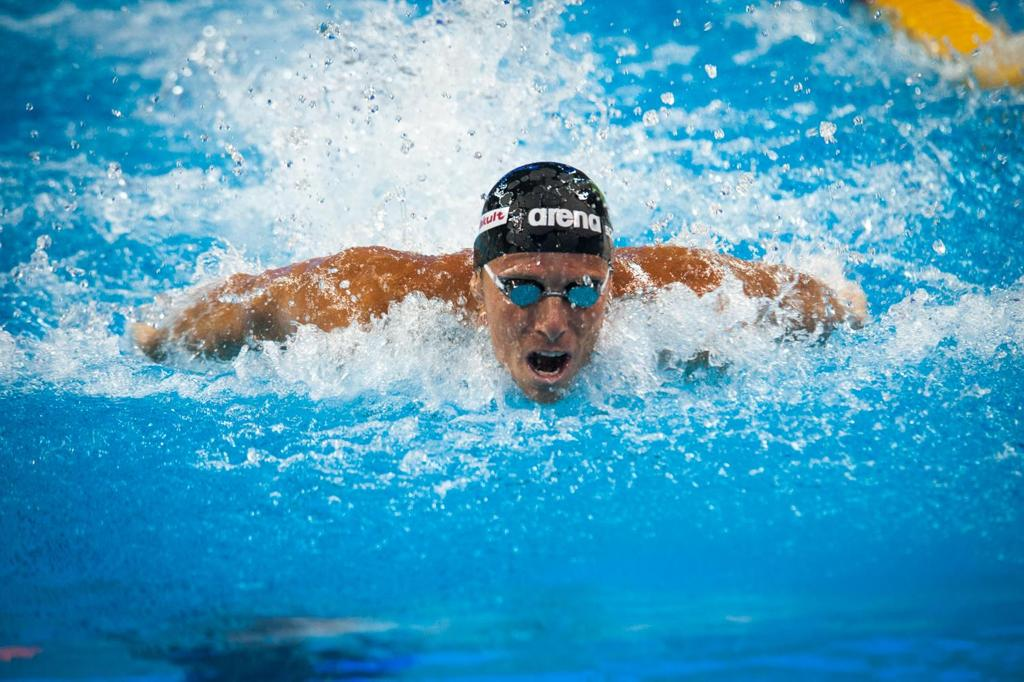face: (492, 246, 604, 400)
